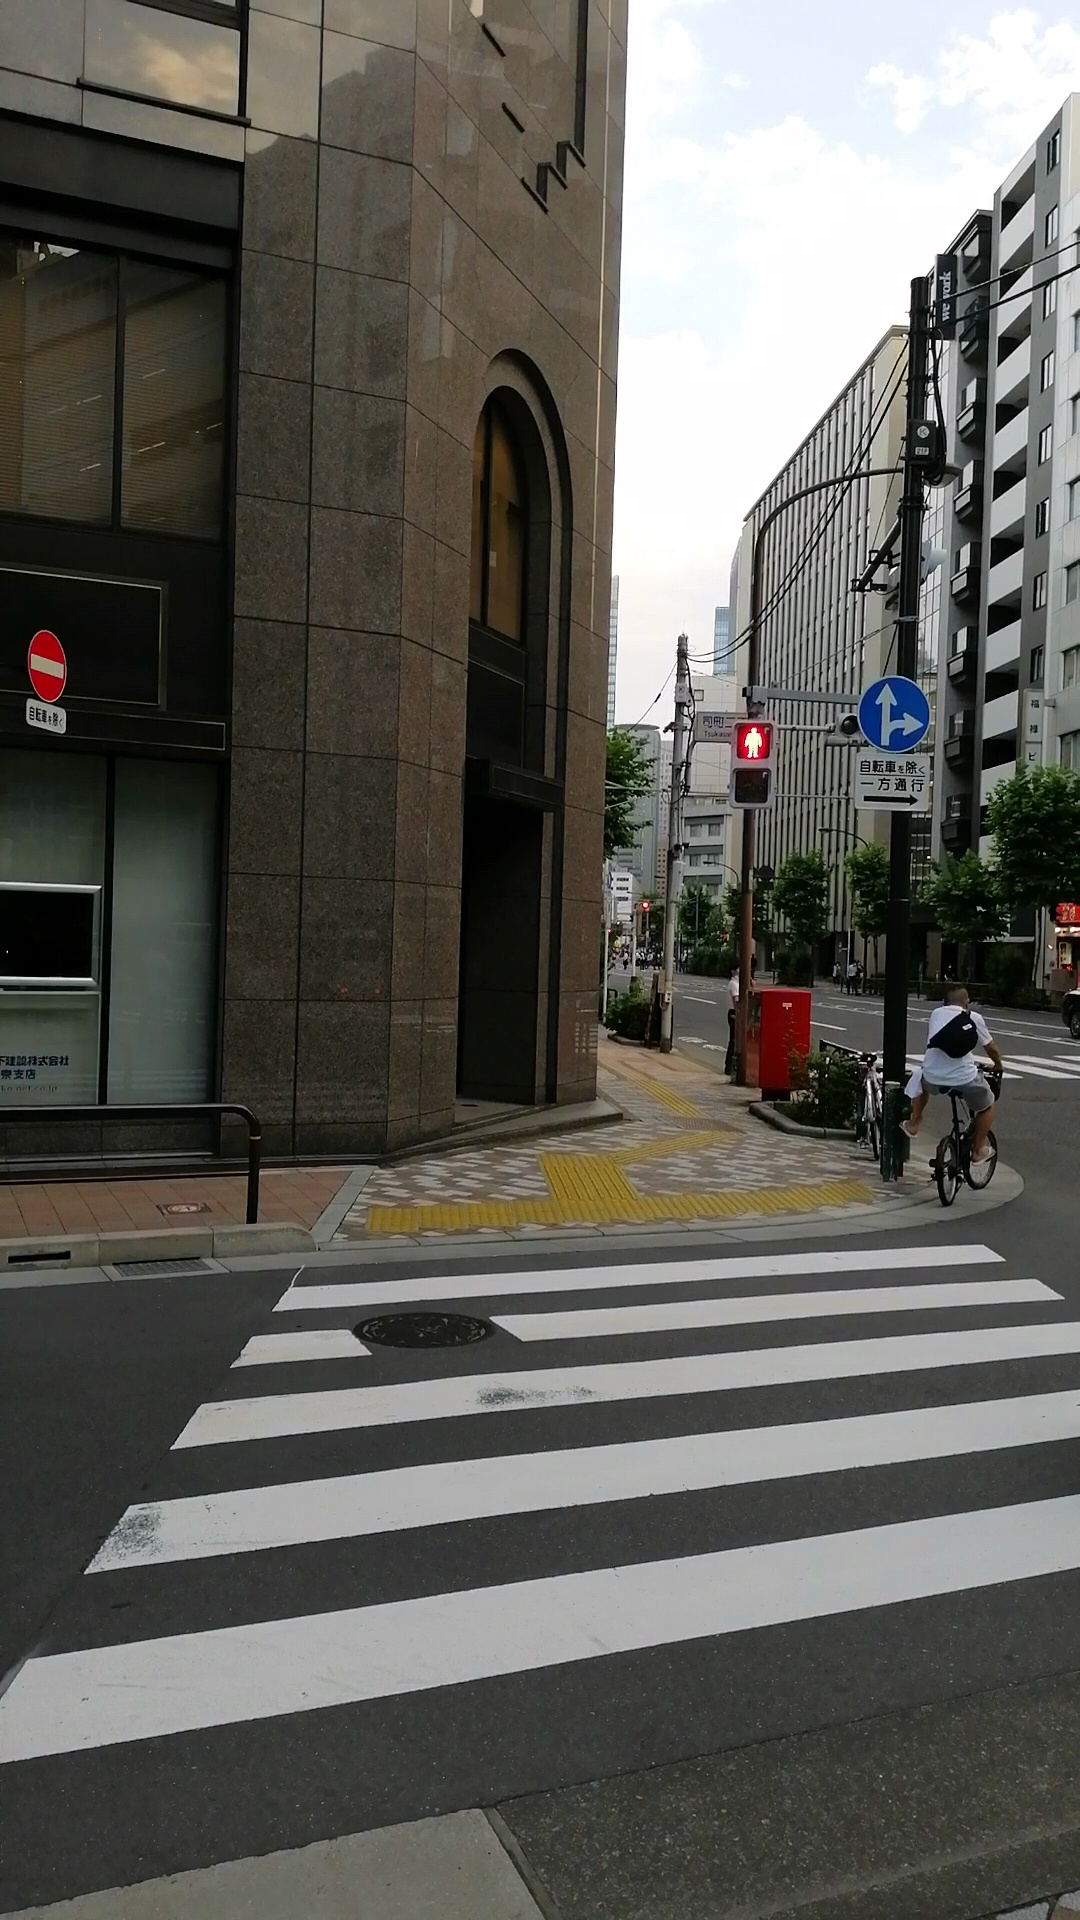red: (731, 717, 773, 808)
